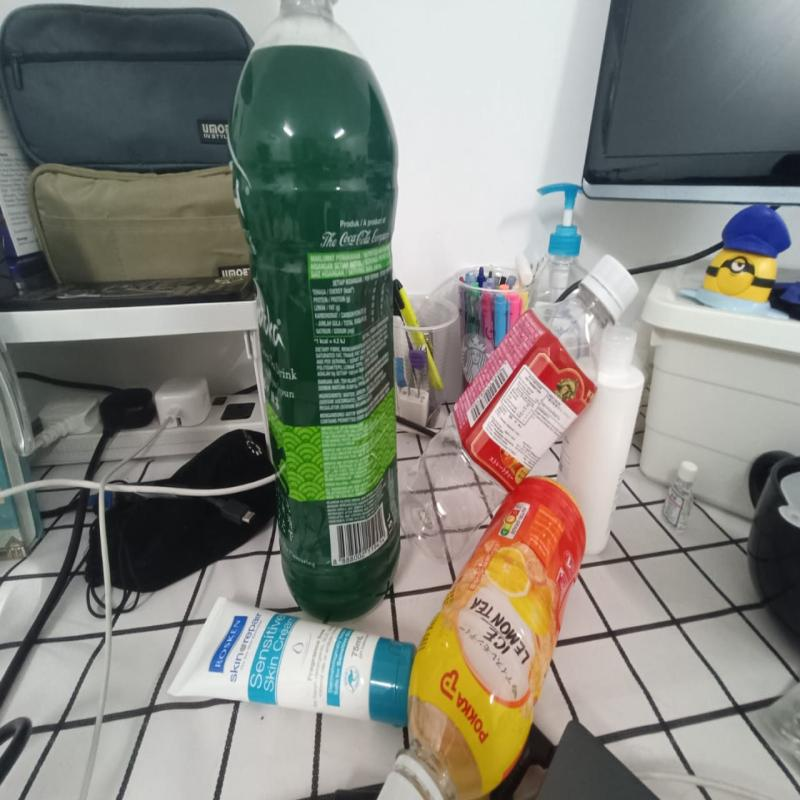botella: (231, 0, 401, 619), (394, 246, 642, 551), (375, 477, 588, 800)
